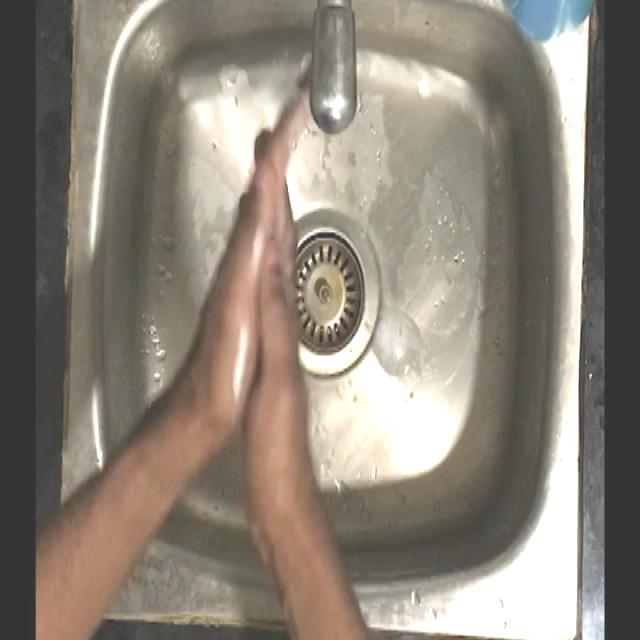step_1: (181, 75, 352, 475)
